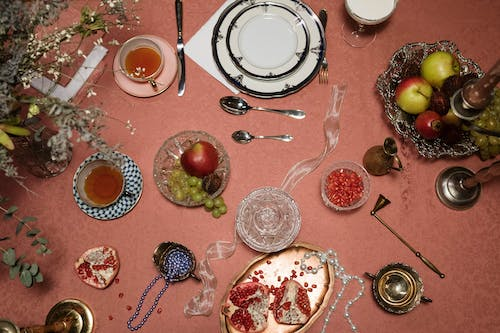knife: (173, 0, 187, 97)
